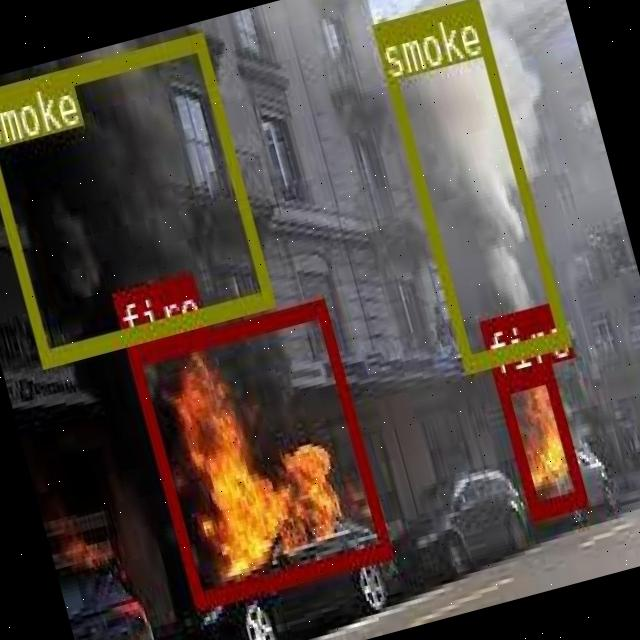fire: (125, 300, 388, 606), (492, 362, 584, 518)
smoke: (0, 31, 273, 365), (371, 0, 568, 369)
